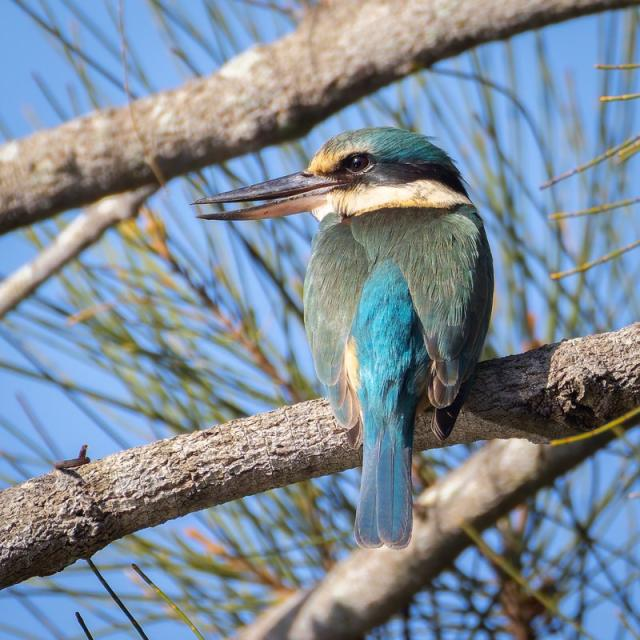kingfisher: (158, 106, 550, 564)
